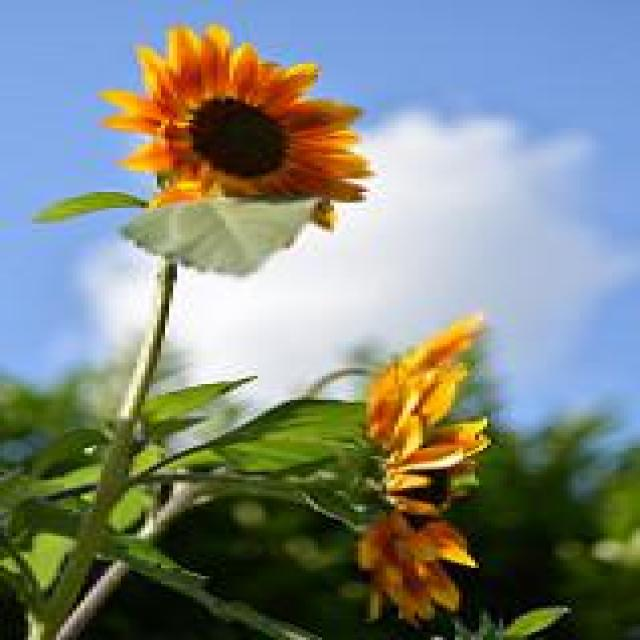sunflower: (98, 24, 378, 232), (362, 318, 488, 447), (358, 509, 482, 623), (379, 417, 489, 512)
